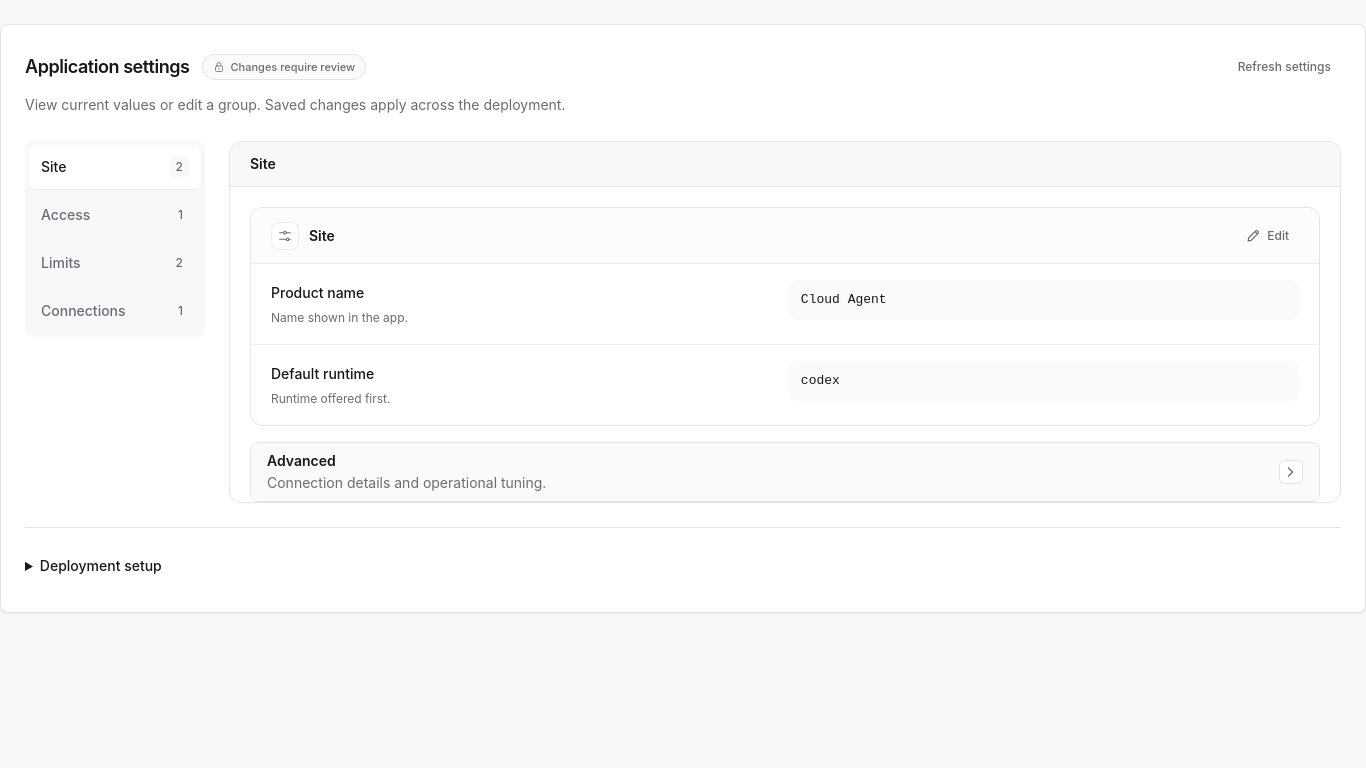
application settings › requires explicit secret replacement and keeps the new secret out of its review
Expected: the text named "Product name" is shown, [789,280,1299,320]
Click the button "Connections 1" at (115, 311), box [29,289,201,333]
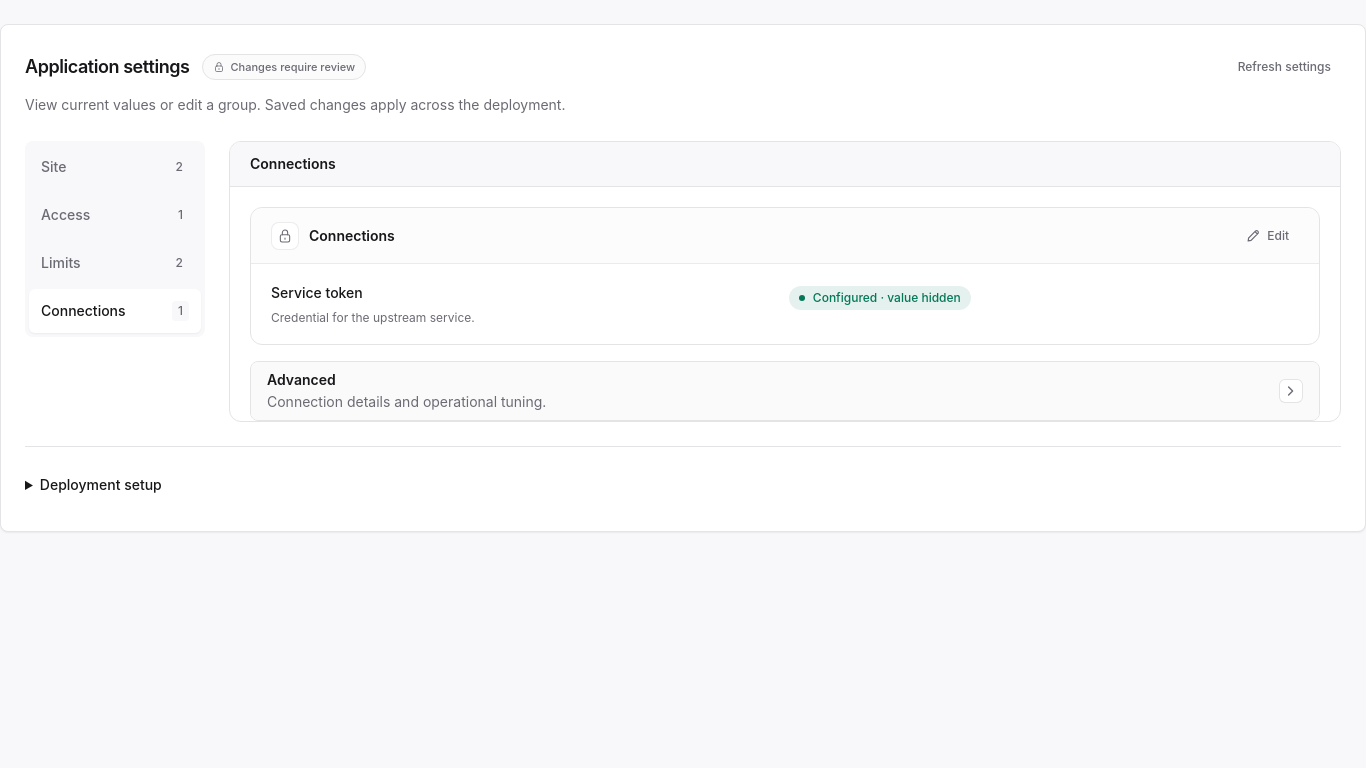
Click the button with aria-label "Edit Connections settings" at (1267, 236), box [1235,218,1299,254]
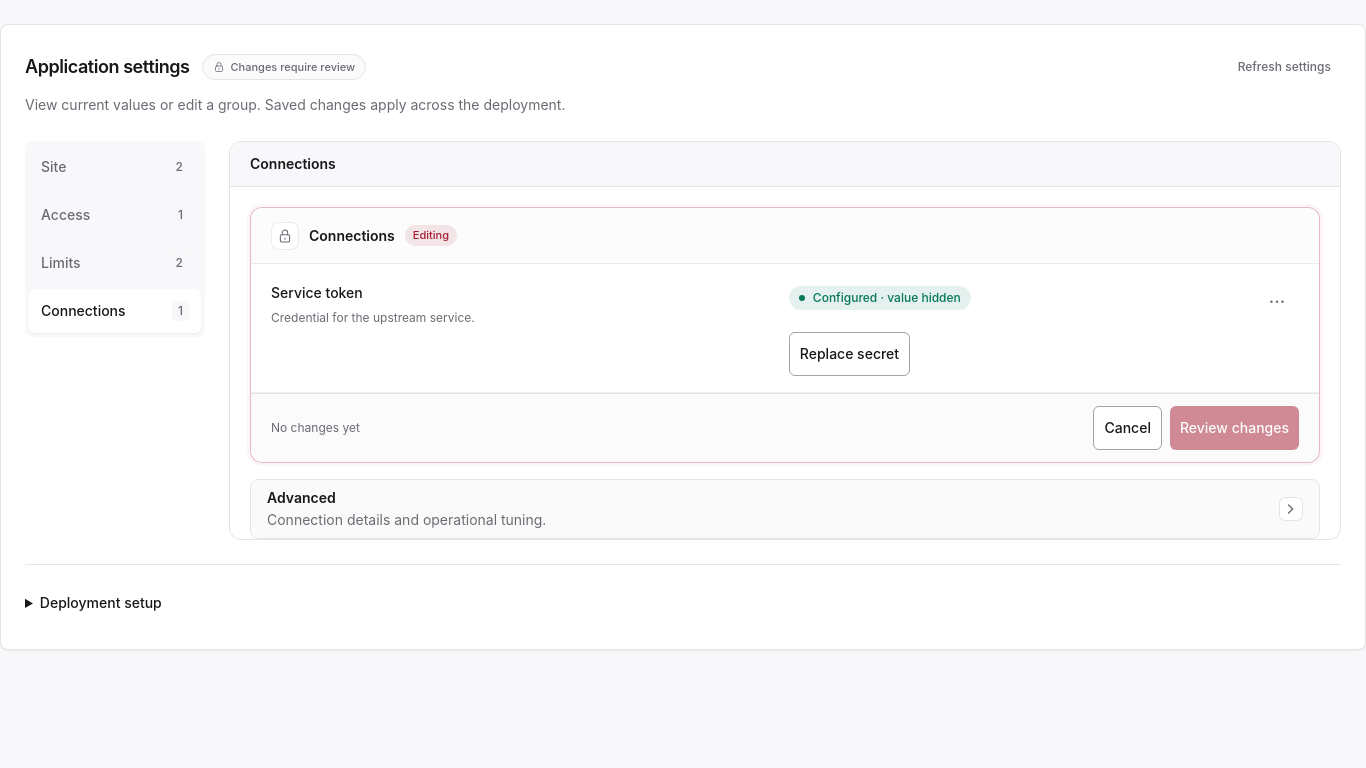
Now the element named "Service token" shows "Configured", box [813,290,961,305]
Click the button with aria-label "Replace Service token" at (849, 354), box [789,332,910,376]
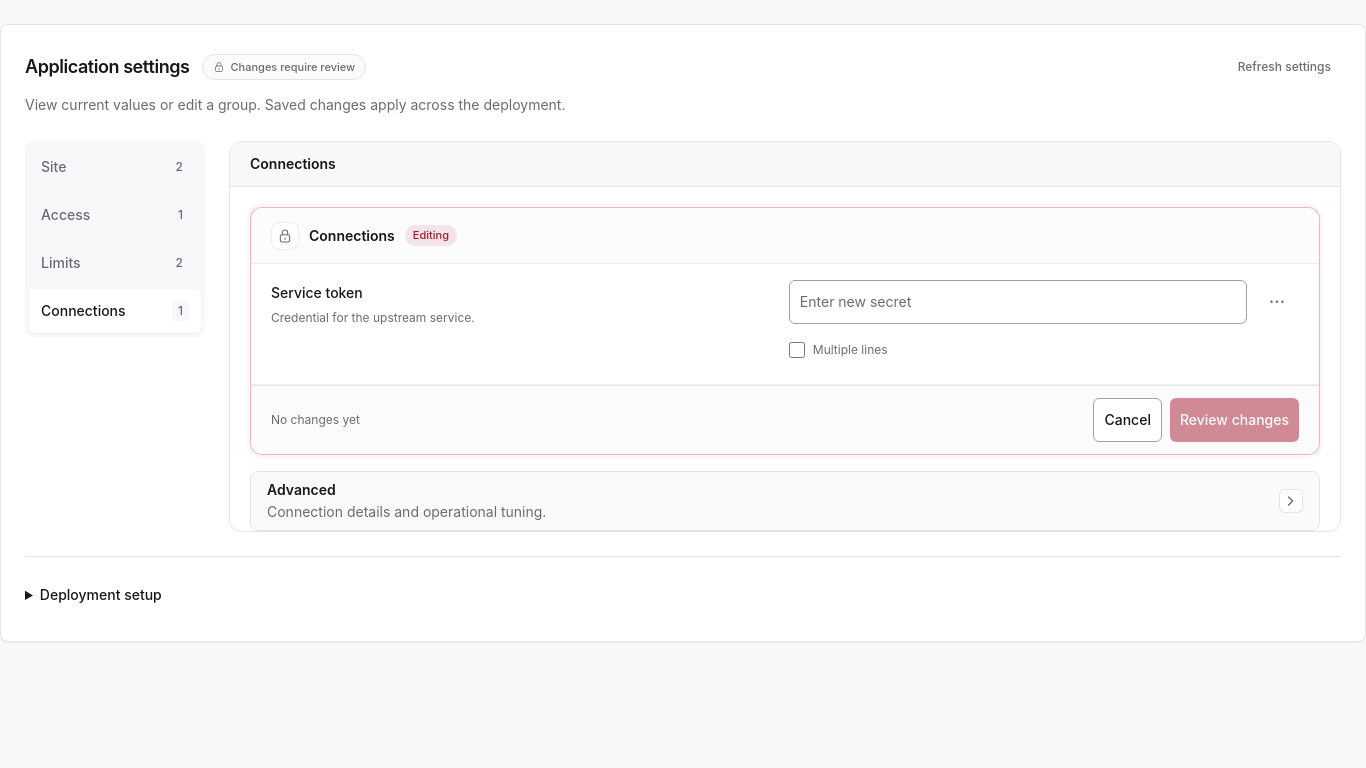
Now the button with aria-label "Review Connections changes" is disabled, box [1170,398,1299,442]
Type "new-private-token" into the password field labelled "Service token" at (1018, 302), box [789,280,1247,324]
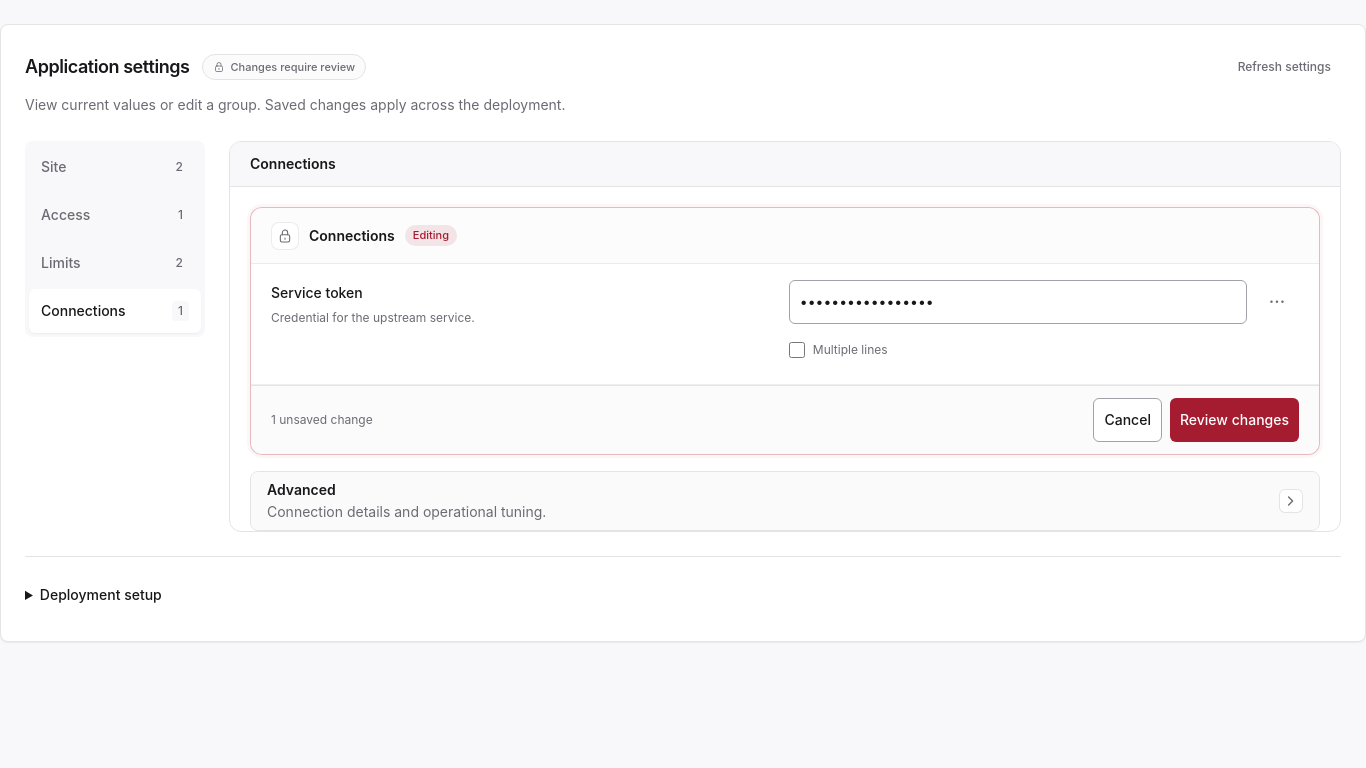
Click the button "Review changes" at (1234, 420), box [1170,398,1299,442]
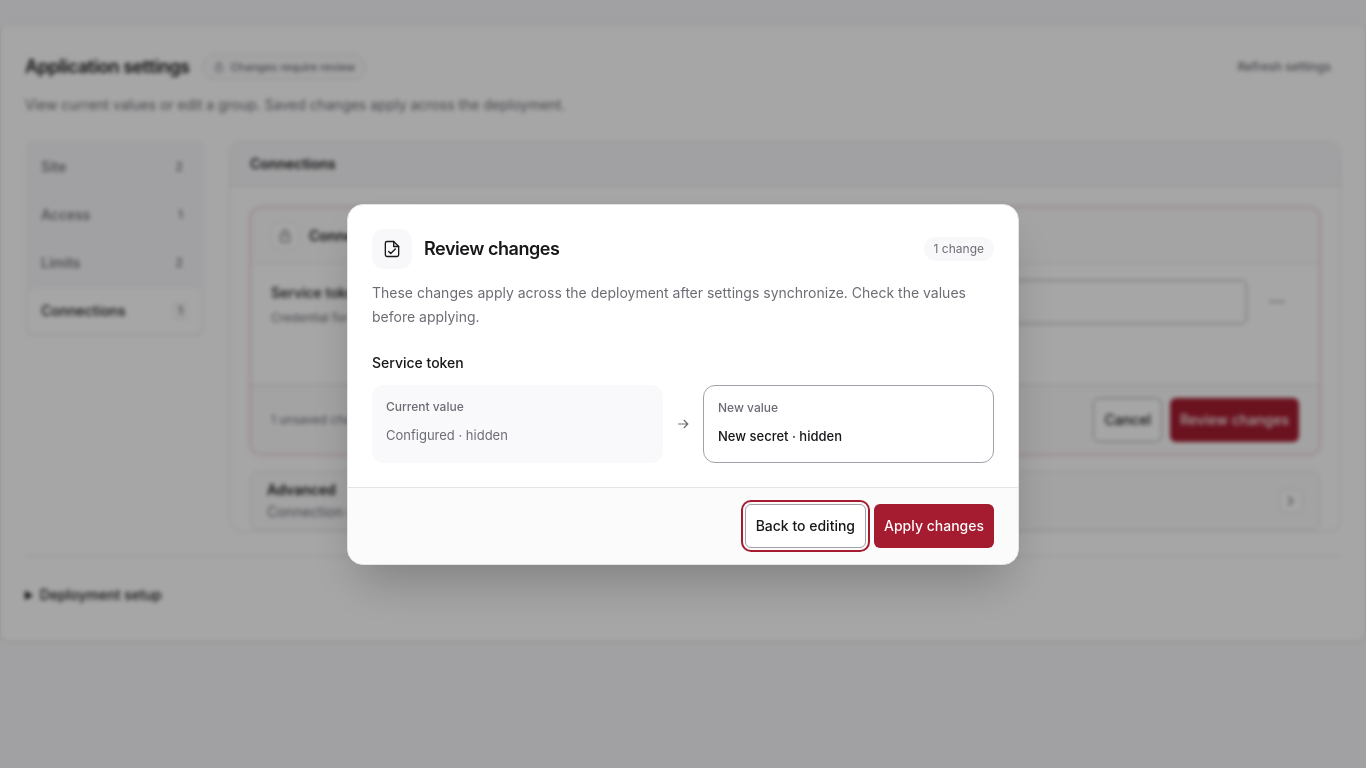
Expected: the dialog does not show "new-private-token", [347,204,1019,564]
Now the text "New secret · hidden" is shown, box [718,428,842,444]
Click the button "Apply changes" at (934, 526), box [874,504,994,548]
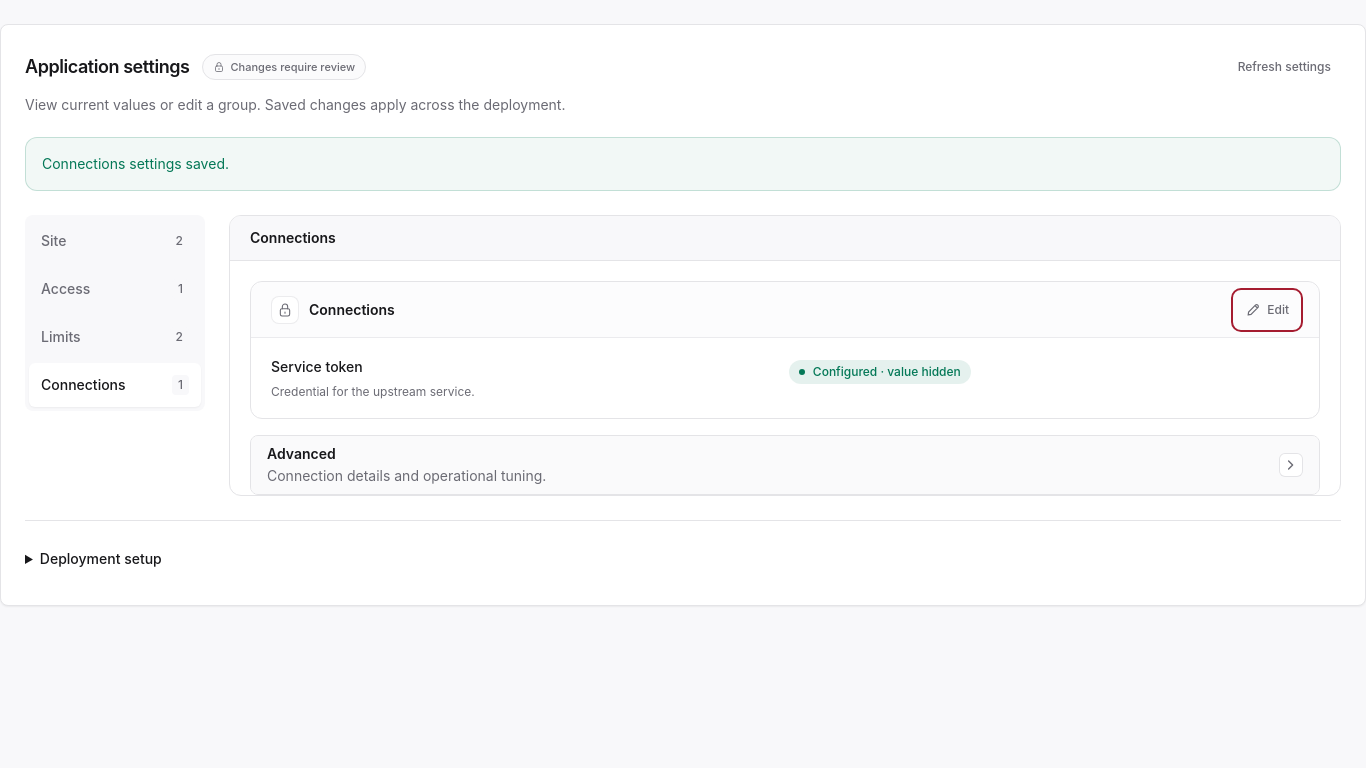
Now the text "Connections settings saved." is shown, box [25,137,1341,191]
